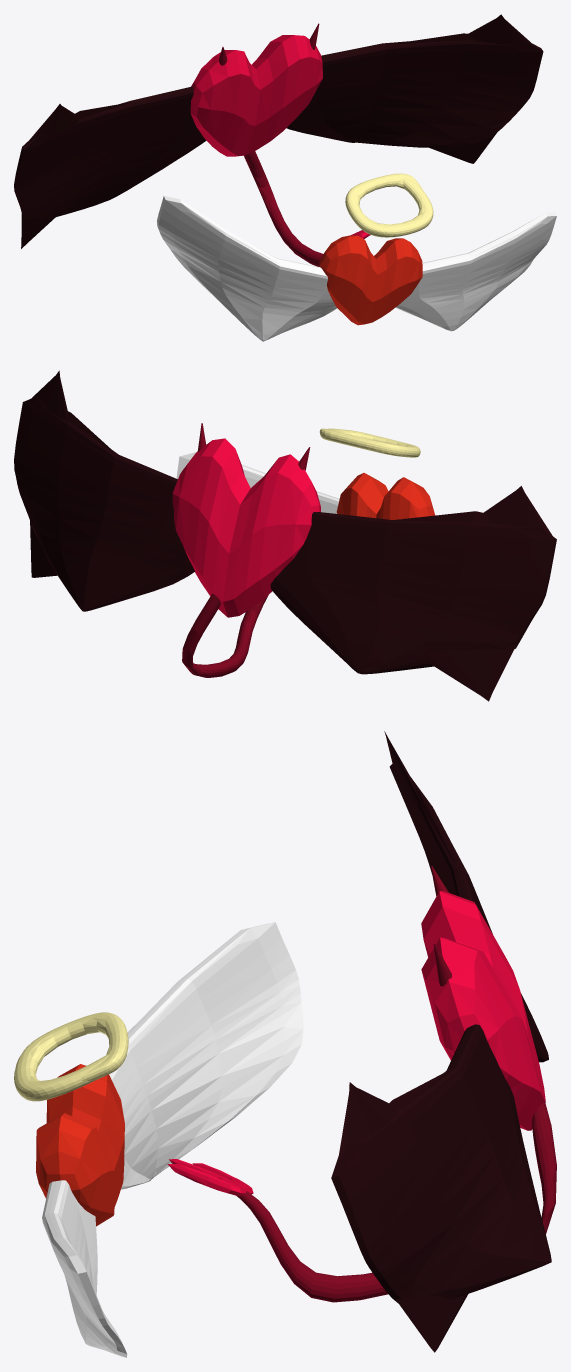
Rendered from gwhitfie.dae.
3 views of the same model, one above another, from view 1: azimuth 30°, elevation 25°; view 2: azimuth 150°, elevation 25°; view 3: azimuth 270°, elevation 25° (orthographic). The views are drawn at different scales.
Parts seen in each view (by area): view 1: Cube-S3D-17-FLIPPED, Cube-S3D-29-FLIPPED, Cube-S3D-16-FLIPPED, Cube-S3D-28-FLIPPED, Cube-S3D-30-FLIPPED, Cube-S3D-26-FLIPPED, Cone-S3D-22, Cone-S3D-21, Cone-S3D-23, Cone-S3D-24; view 2: Cube-S3D-17-FLIPPED, Cube-S3D-16-FLIPPED, Cube-S3D-28-FLIPPED, Cone-S3D-24, Cube-S3D-26-FLIPPED, Cone-S3D-21, Cube-S3D-30-FLIPPED, Cube-S3D-29-FLIPPED, Cone-S3D-22, Cone-S3D-23; view 3: Cube-S3D-17-FLIPPED, Cube-S3D-29-FLIPPED, Cube-S3D-16-FLIPPED, Cube-S3D-28-FLIPPED, Cube-S3D-26-FLIPPED, Cube-S3D-30-FLIPPED, Cone-S3D-22, Cone-S3D-23, Cube-S3D-27-FLIPPED.
Part boxes in pixels (bbox=[...]): Cube-S3D-17-FLIPPED: bbox=[14, 33, 543, 223]; Cube-S3D-29-FLIPPED: bbox=[157, 196, 556, 341]; Cube-S3D-16-FLIPPED: bbox=[190, 35, 322, 156]; Cube-S3D-28-FLIPPED: bbox=[319, 235, 422, 325]; Cube-S3D-30-FLIPPED: bbox=[345, 173, 433, 237]; Cube-S3D-26-FLIPPED: bbox=[244, 151, 323, 266]; Cone-S3D-22: bbox=[468, 14, 535, 49]; Cone-S3D-21: bbox=[22, 104, 79, 148]; Cone-S3D-23: bbox=[429, 132, 497, 163]; Cone-S3D-24: bbox=[21, 213, 55, 248]; Cube-S3D-17-FLIPPED: bbox=[14, 396, 556, 674]; Cube-S3D-16-FLIPPED: bbox=[172, 438, 320, 617]; Cube-S3D-28-FLIPPED: bbox=[336, 473, 435, 519]; Cone-S3D-24: bbox=[424, 640, 518, 701]; Cube-S3D-26-FLIPPED: bbox=[182, 593, 268, 677]; Cone-S3D-21: bbox=[483, 486, 555, 541]; Cube-S3D-30-FLIPPED: bbox=[319, 428, 420, 457]; Cube-S3D-29-FLIPPED: bbox=[176, 452, 339, 513]; Cone-S3D-22: bbox=[31, 370, 68, 419]; Cone-S3D-23: bbox=[30, 521, 57, 577]; Cube-S3D-17-FLIPPED: bbox=[331, 763, 551, 1303]; Cube-S3D-29-FLIPPED: bbox=[42, 922, 303, 1357]; Cube-S3D-16-FLIPPED: bbox=[421, 891, 545, 1130]; Cube-S3D-28-FLIPPED: bbox=[36, 1064, 124, 1226]; Cube-S3D-26-FLIPPED: bbox=[237, 1101, 556, 1302]; Cube-S3D-30-FLIPPED: bbox=[14, 1012, 128, 1101]; Cone-S3D-22: bbox=[337, 1082, 397, 1165]; Cone-S3D-23: bbox=[396, 1294, 468, 1352]; Cube-S3D-27-FLIPPED: bbox=[167, 1159, 253, 1195].
Size of the model in its own units: 21.06 by 9.47 by 12.23.
